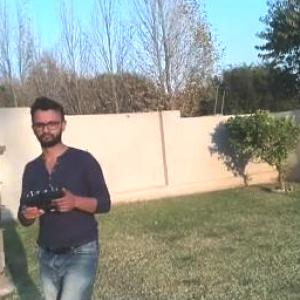follow: (19, 91, 124, 299)
